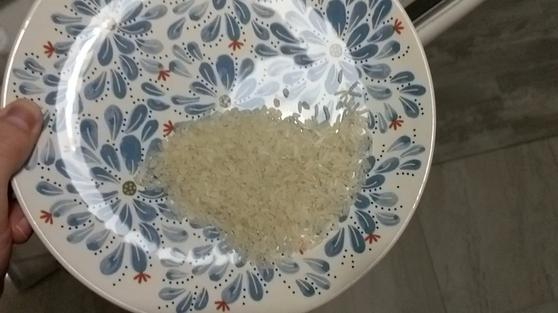rice: (145, 97, 376, 259)
